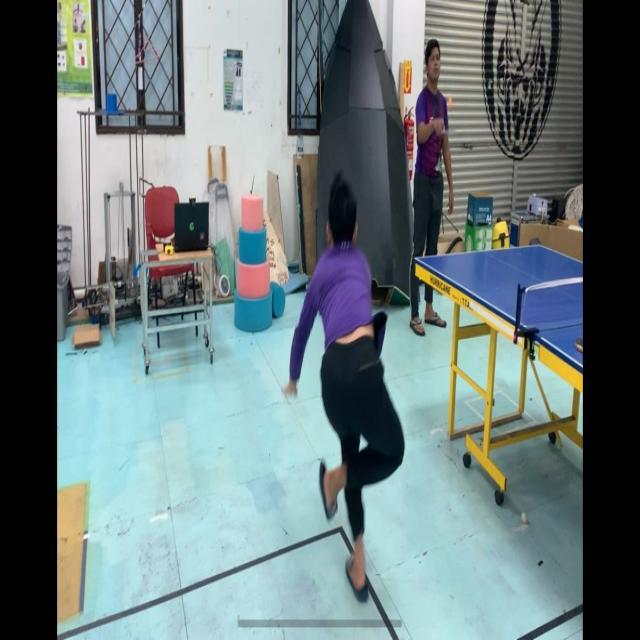fall: (279, 166, 408, 582)
